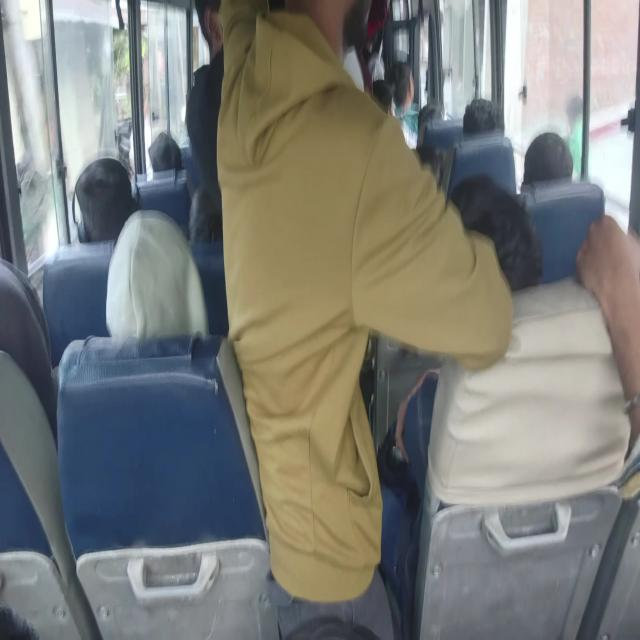person: (214, 1, 533, 637), (574, 212, 640, 456), (105, 208, 209, 340), (184, 0, 224, 242), (385, 60, 419, 149), (522, 131, 573, 184)
